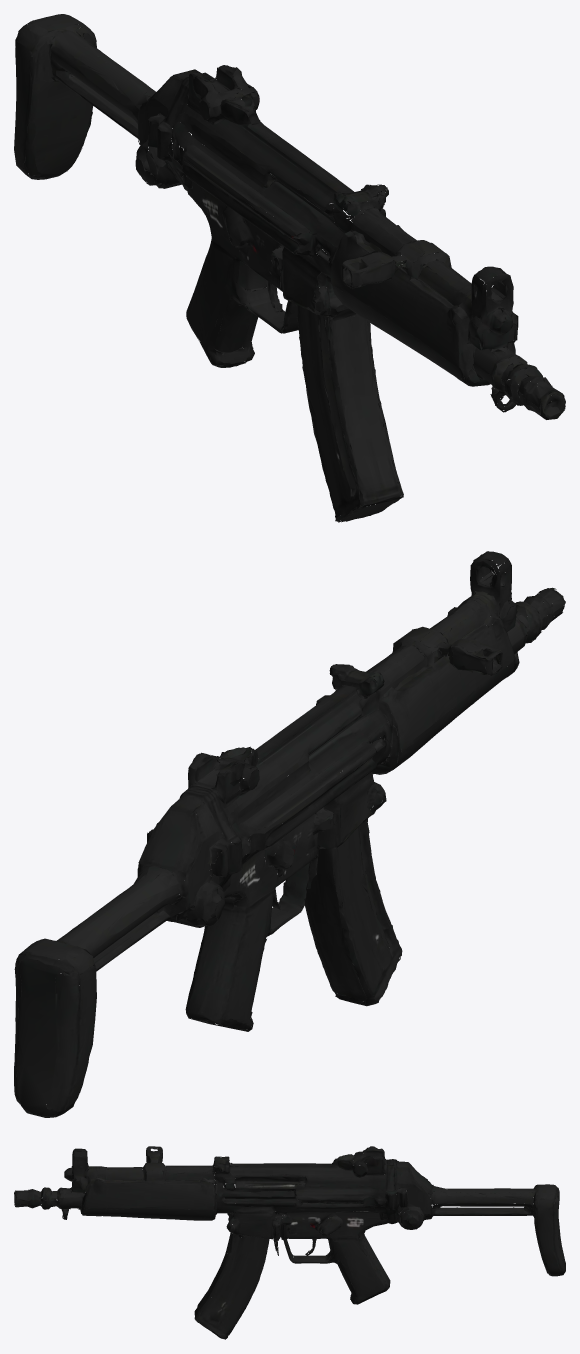
3 views of the same model, one above another, from view 1: azimuth 30°, elevation 25°; view 2: azimuth 150°, elevation 25°; view 3: azimuth 270°, elevation 25° (orthographic). The views are drawn at different scales.
Parts seen in each view (by area): view 1: mp5; view 2: mp5; view 3: mp5.
Boxes of the visible parts, x1,y1,x2,y2 form: mp5: (14, 14, 565, 522); mp5: (14, 551, 565, 1117); mp5: (14, 1146, 565, 1339).
Bounding box in the file's own units: 0.0999 × 0.2521 × 0.68.
Materials: 1 (1 with a texture image).
